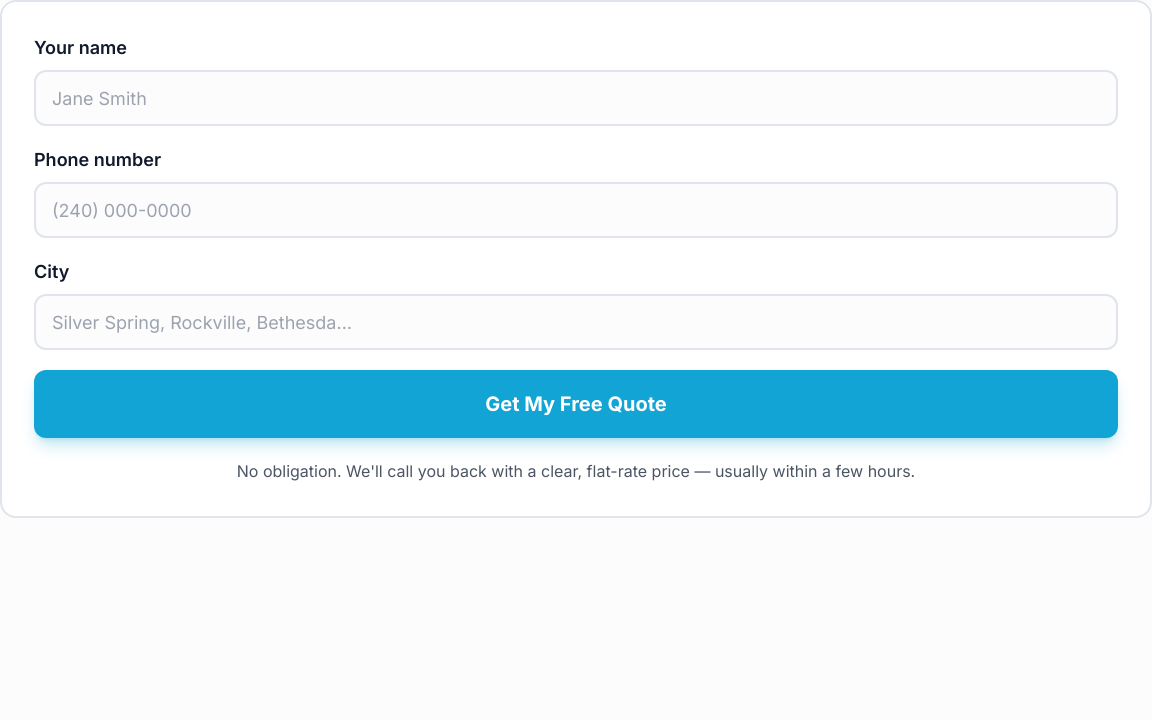
SeniorQuoteForm — success only when a critical destination confirms › db fails + receive-lead ok → submitted
The image size is (1152, 720).
Step 1. Type "Ann Lee" into the field labelled "Your name" → point(576, 98), box [34,70,1118,126]
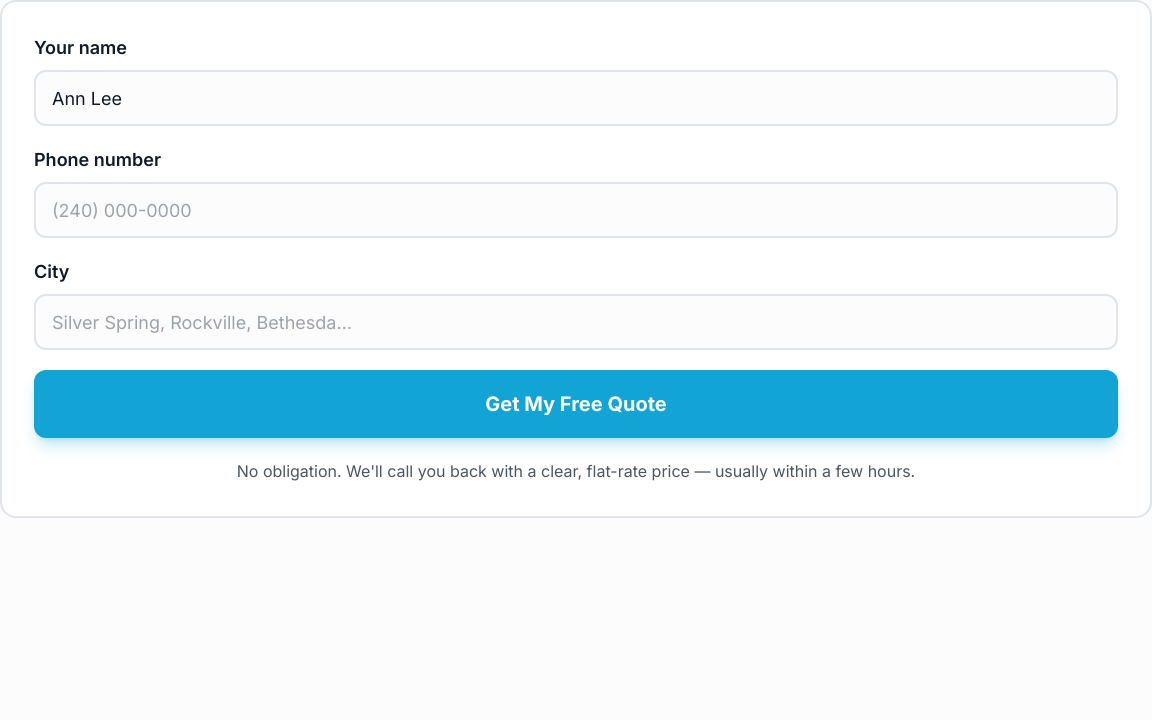
Step 2. Type "3015550100" into the field labelled "Phone number" → point(576, 210), box [34,182,1118,238]
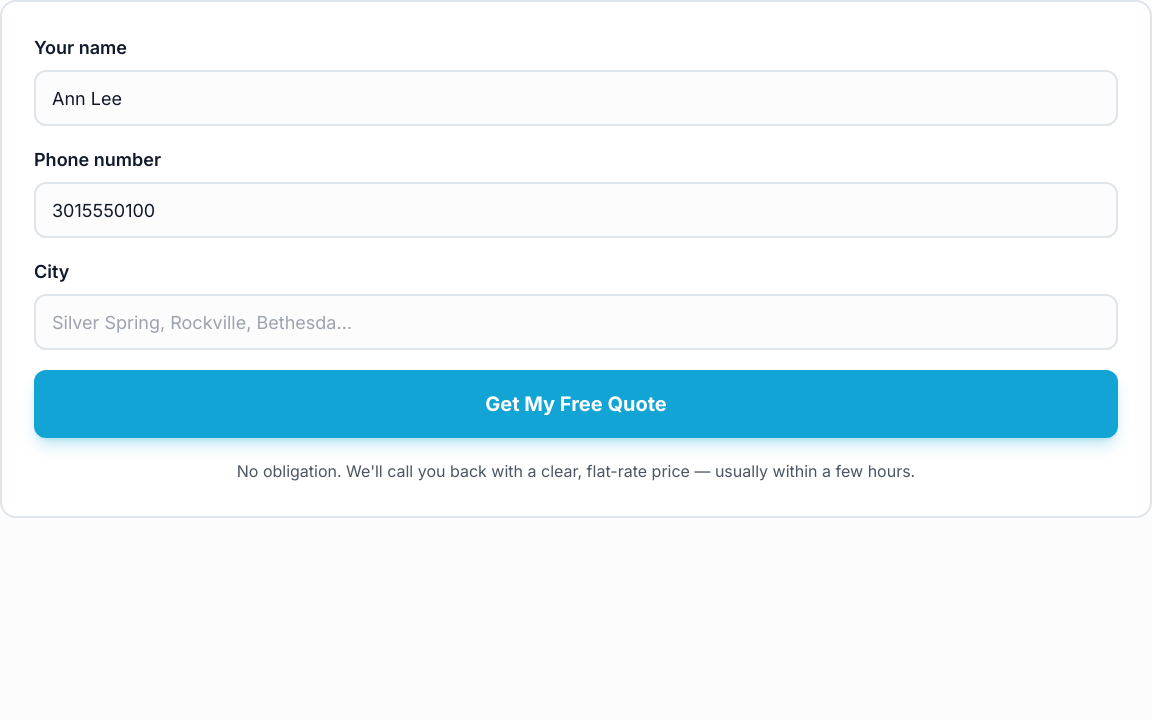
Step 3. Type "Rockville" into the field labelled "City" → point(576, 322), box [34,294,1118,350]
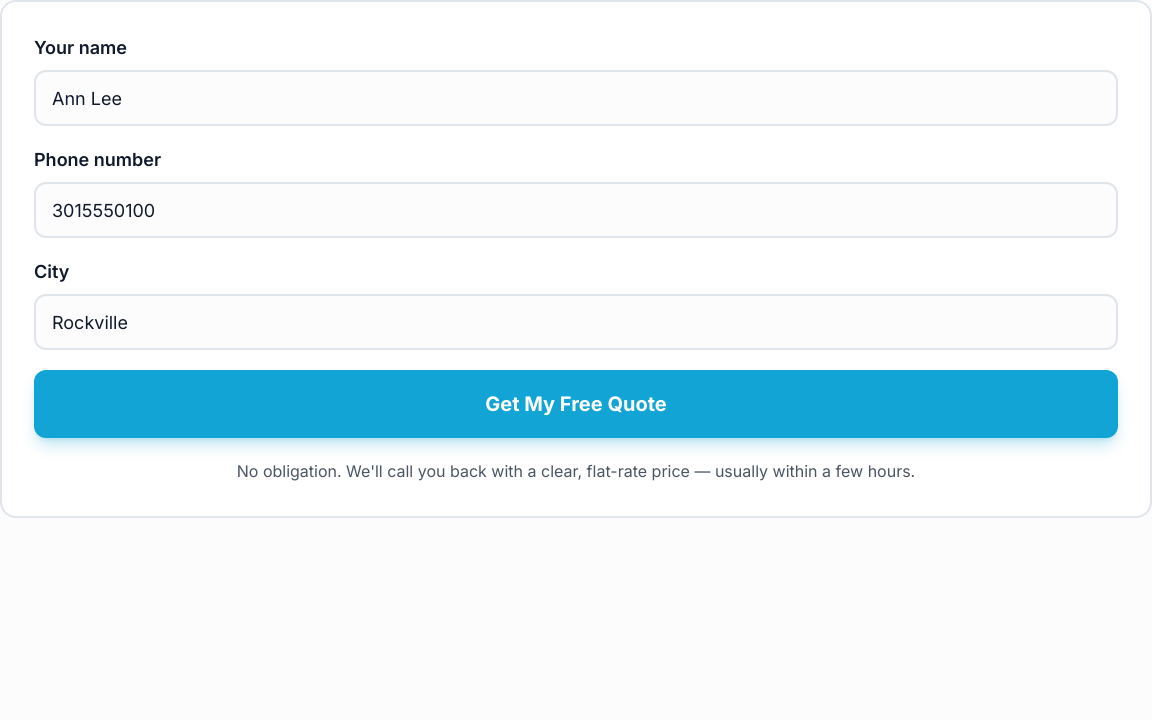
Step 4. Submit the form
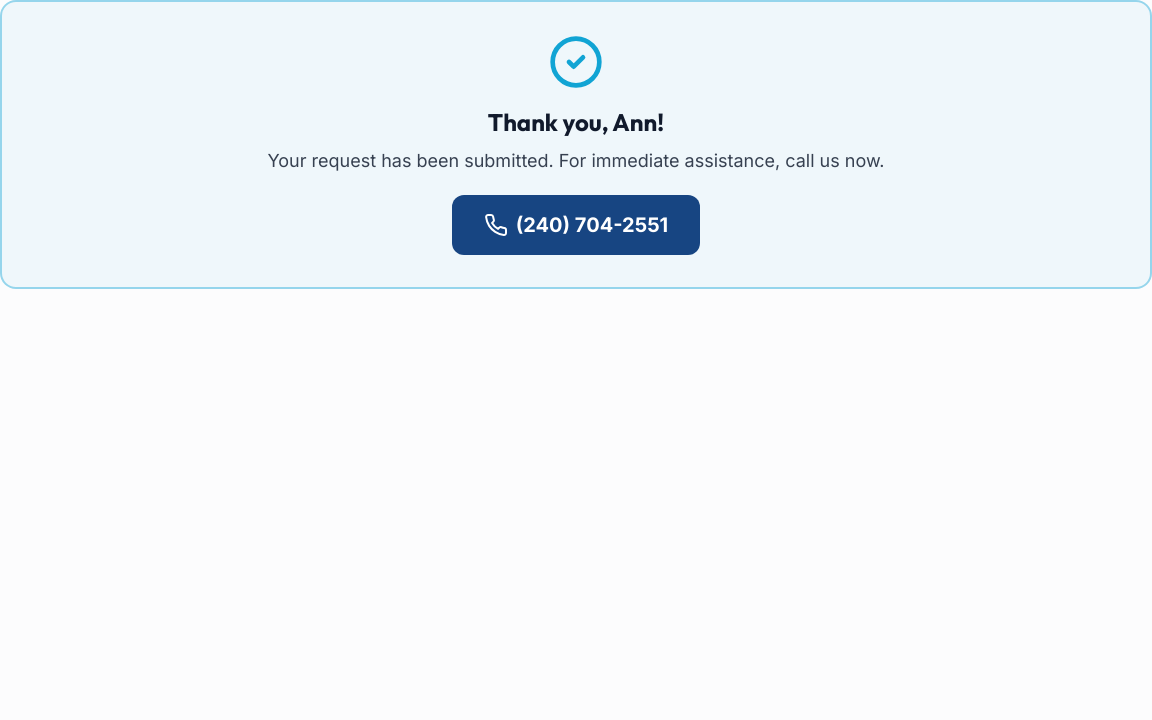
expect the text "Your request has been submitted" is shown: met, box [268,150,884,171]
